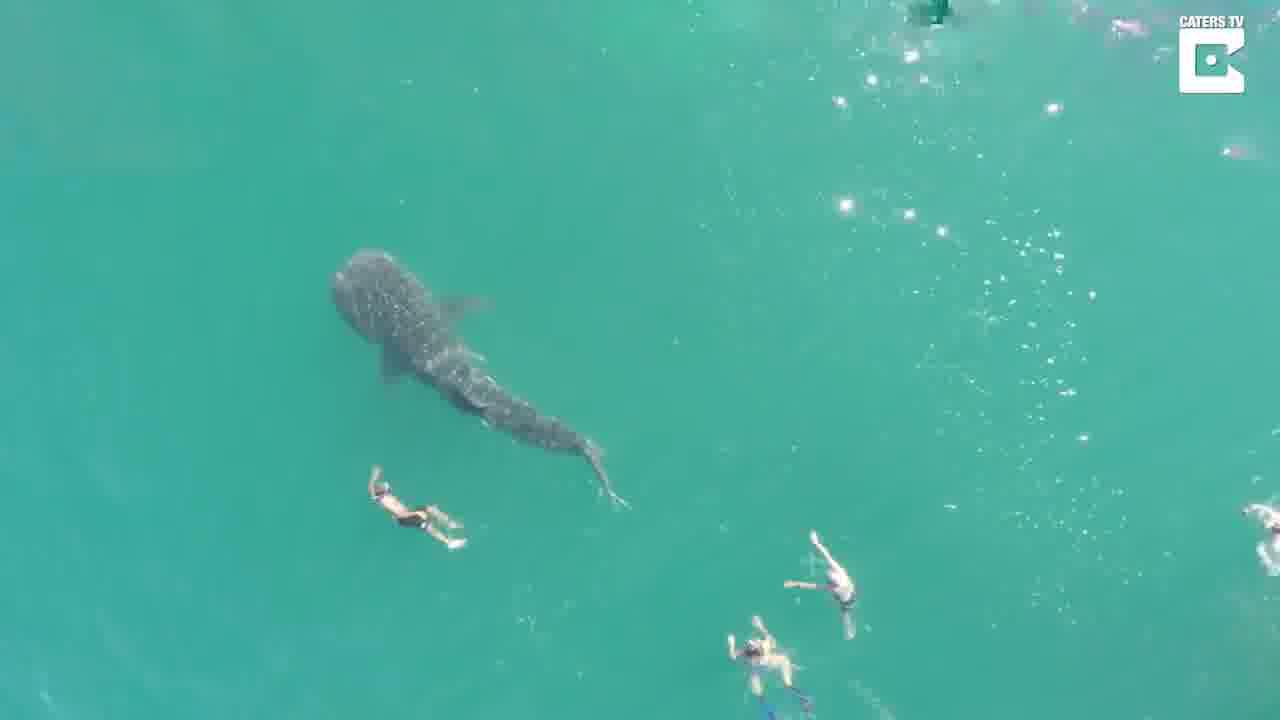swimmer: (360, 470, 468, 553), (774, 535, 870, 625), (728, 617, 806, 708)
